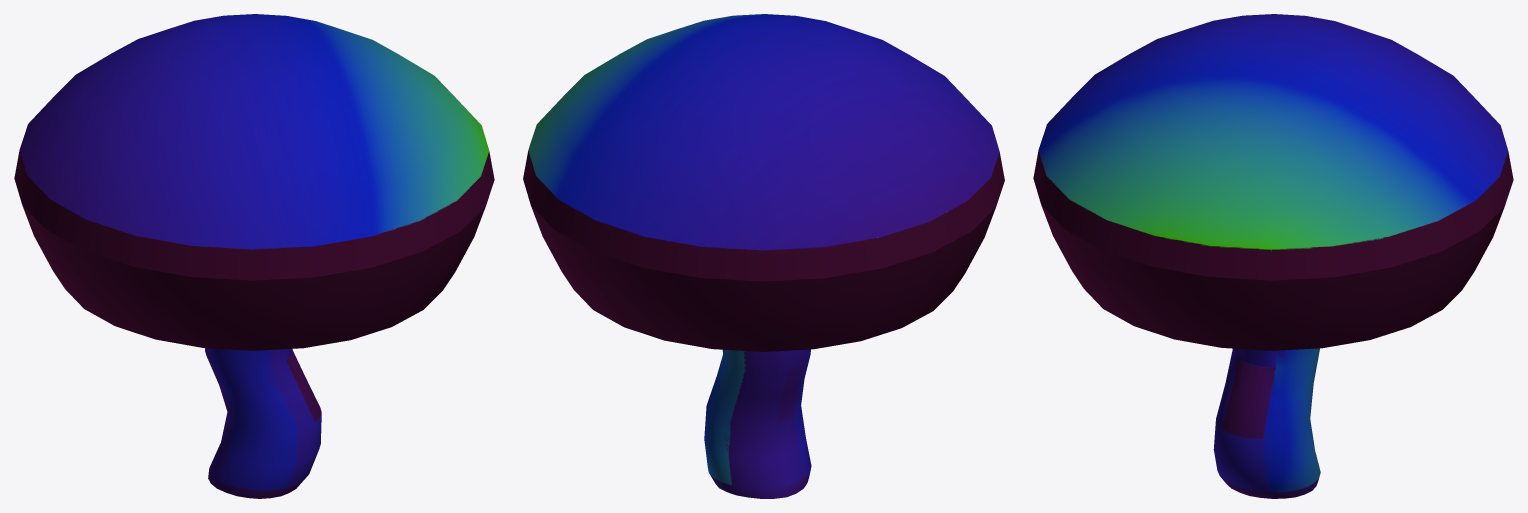
Rendered from mush2.fbx.
3 views of the same model, side by side, from view 1: azimuth 30°, elevation 25°; view 2: azimuth 150°, elevation 25°; view 3: azimuth 270°, elevation 25° (orthographic).
Parts seen in each view (by area): view 1: Cylinder.003; view 2: Cylinder.003; view 3: Cylinder.003.
Part boxes in pixels (box(x1,y1,x2,y2)): Cylinder.003: box(14, 14, 494, 498); Cylinder.003: box(523, 14, 1004, 498); Cylinder.003: box(1033, 14, 1513, 498).
Size of the model in its own units: 482 by 485 by 482.
